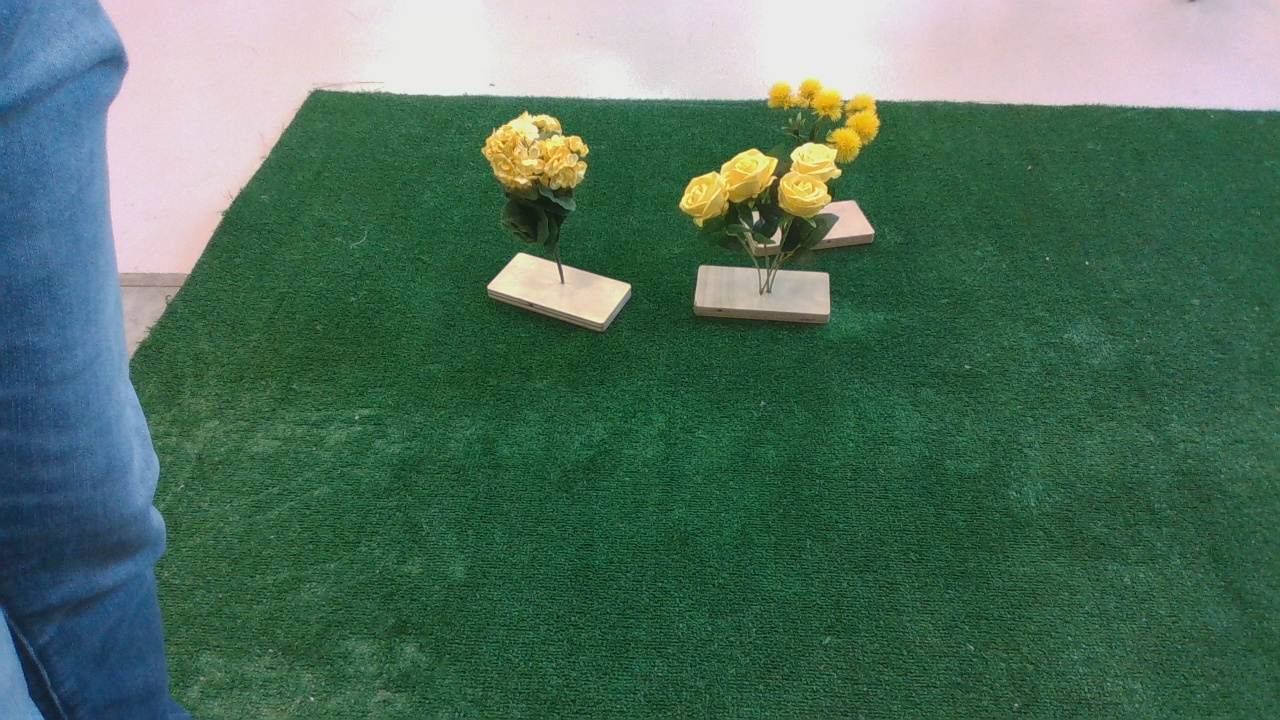dandelion: (771, 77, 895, 149)
geranium: (478, 104, 604, 244)
rose: (669, 148, 844, 270)
